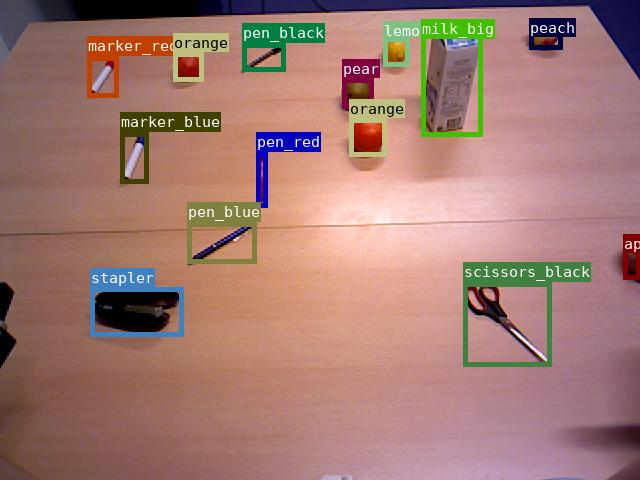apple: (623, 234, 640, 279)
lemon: (383, 37, 409, 66)
marker_blue: (120, 132, 148, 183)
marker_red: (87, 56, 118, 97)
milk_big: (421, 19, 482, 136)
orange: (349, 118, 386, 156), (173, 52, 203, 81)
peach: (529, 18, 562, 49)
pear: (342, 78, 373, 108)
pen_black: (242, 43, 285, 71)
pen_blue: (187, 222, 256, 263)
pen_red: (256, 152, 267, 207)
scissors_black: (463, 282, 551, 366)
stapler: (90, 287, 183, 336)
